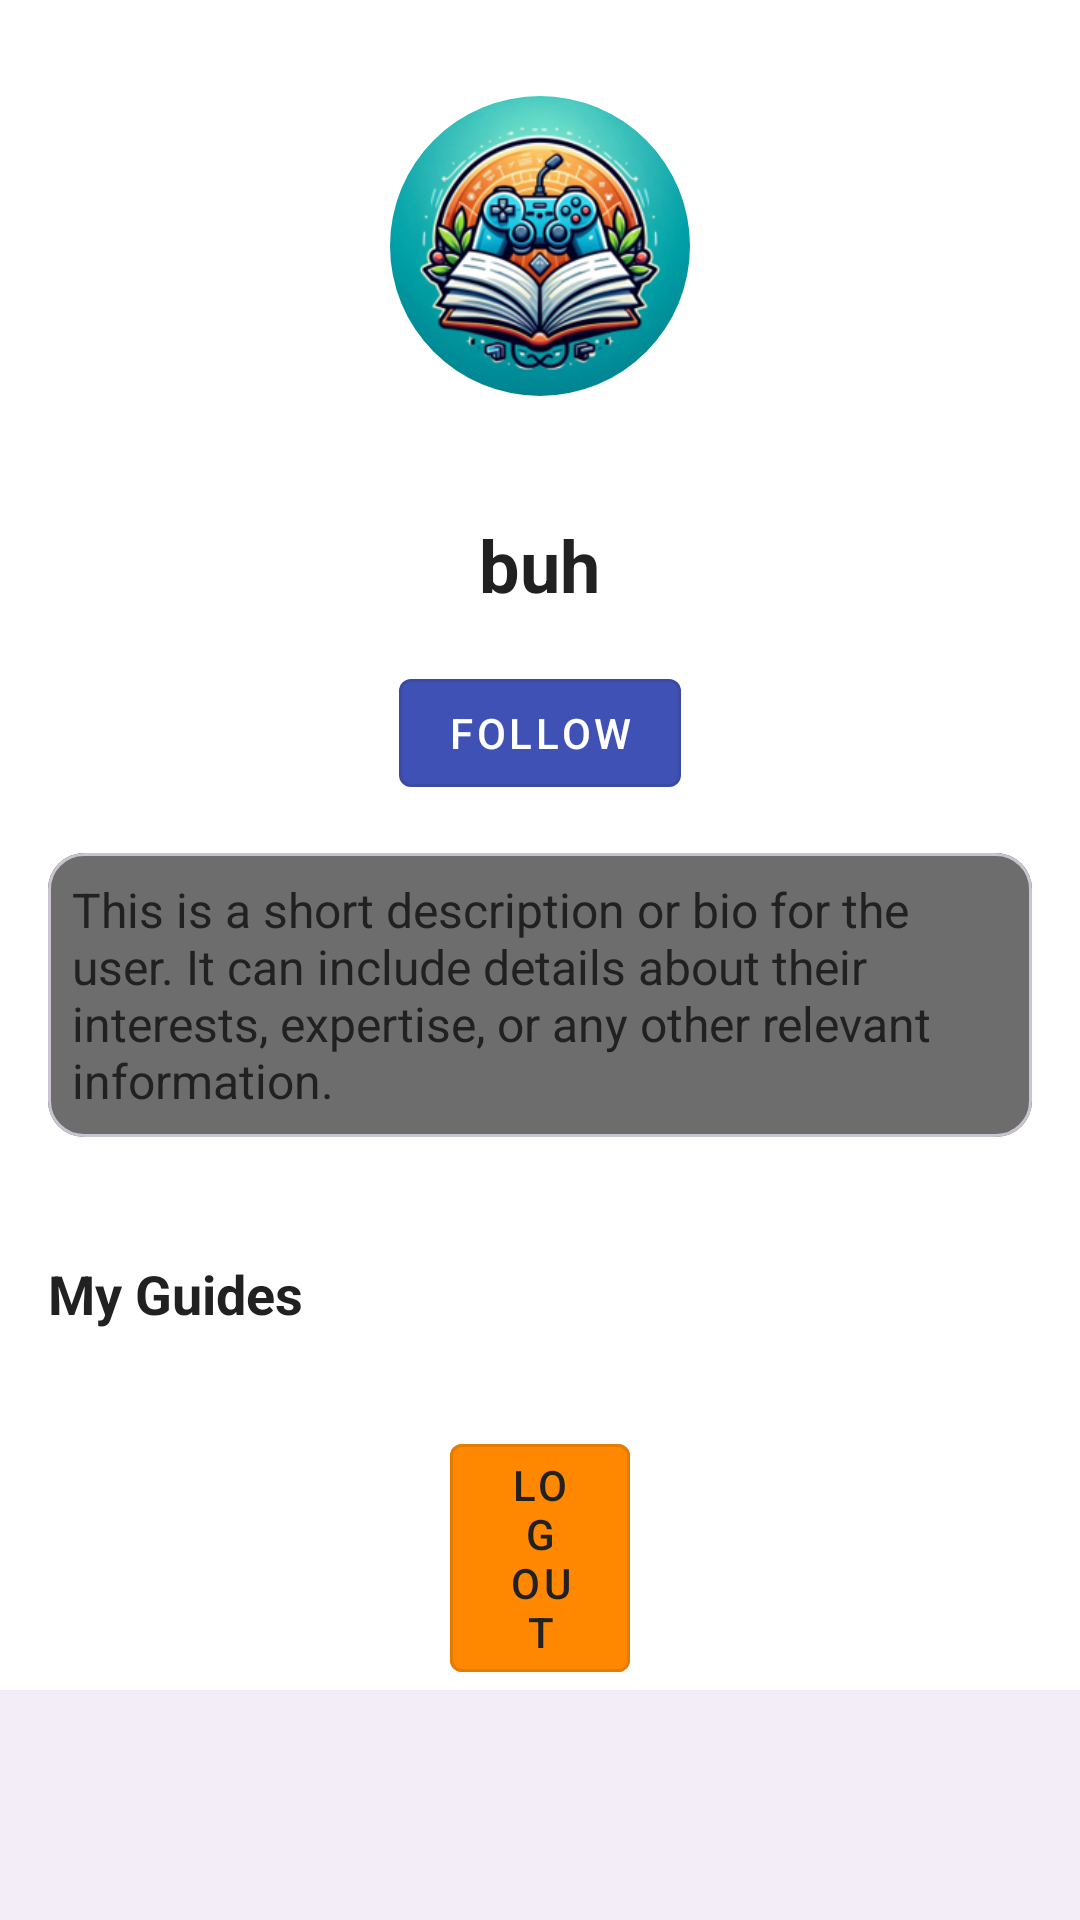

Icons on this 1080 x 1920 Android screen, each with its box as (x1, y1, x2, y2):
Profile Picture: (390, 96, 690, 396)
